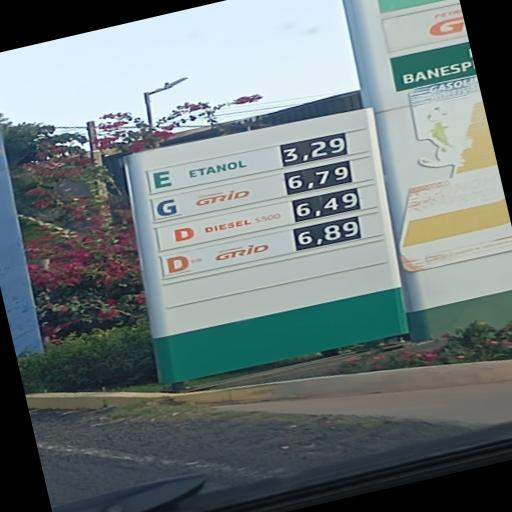ETANOL: (147, 147, 271, 194)
GASOLINA AD: (151, 179, 254, 221)
S10: (160, 231, 285, 279)
S500: (159, 200, 291, 251)
placa: (127, 106, 404, 335)
preco: (280, 131, 348, 168), (285, 159, 352, 196), (294, 216, 361, 251), (294, 188, 362, 222)
